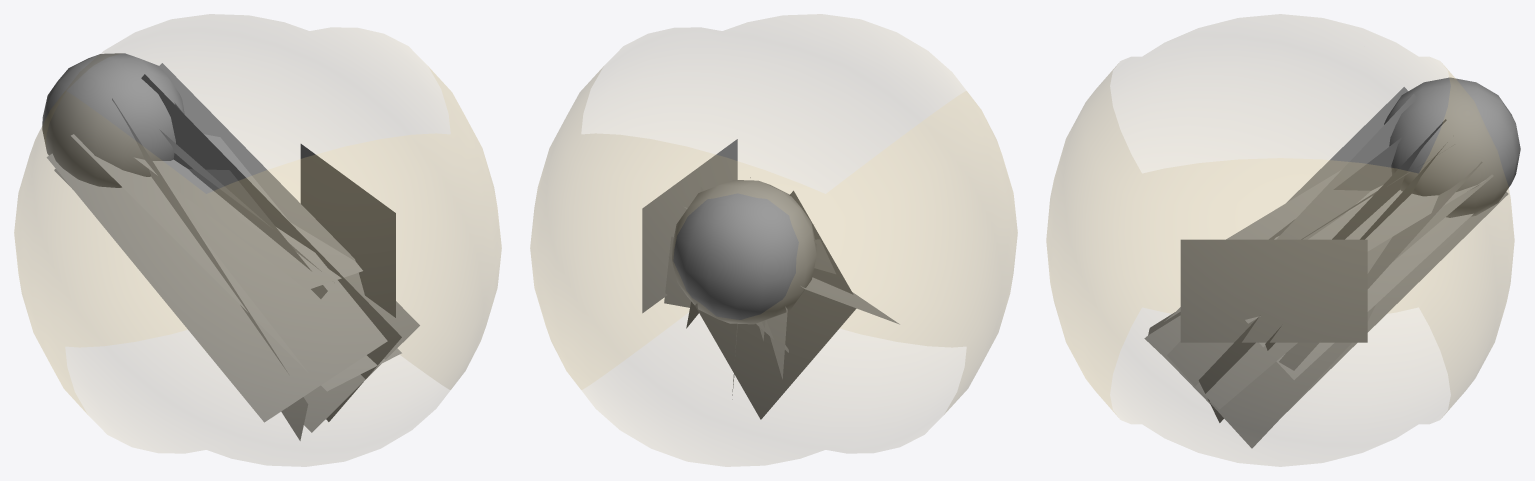
Rendered from Egyptian enter door.fbx.
3 renders of one model, left to right at view 1: azimuth 30°, elevation 25°; view 2: azimuth 150°, elevation 25°; view 3: azimuth 270°, elevation 25°, orthographic. The views are drawn at different scales.
Parts seen in each view (by area): view 1: Sky, light, Sun003, Plane001; view 2: Sky, Sun003, light, Plane001; view 3: Sky, light, Plane001, Sun003.
Boxes of the visible parts, x1=… form: Sky: x1=14, y1=14, x2=501, y2=466; light: x1=46, y1=63, x2=419, y2=440; Sun003: x1=42, y1=53, x2=184, y2=187; Plane001: x1=300, y1=144, x2=395, y2=317; Sky: x1=530, y1=14, x2=1017, y2=466; Sun003: x1=671, y1=180, x2=816, y2=324; light: x1=664, y1=177, x2=899, y2=419; Plane001: x1=642, y1=139, x2=737, y2=313; Sky: x1=1046, y1=14, x2=1514, y2=466; light: x1=1144, y1=87, x2=1508, y2=448; Plane001: x1=1180, y1=239, x2=1367, y2=342; Sun003: x1=1384, y1=77, x2=1520, y2=217.
Size of the model in its own units: 171066 by 140082 by 173284.
